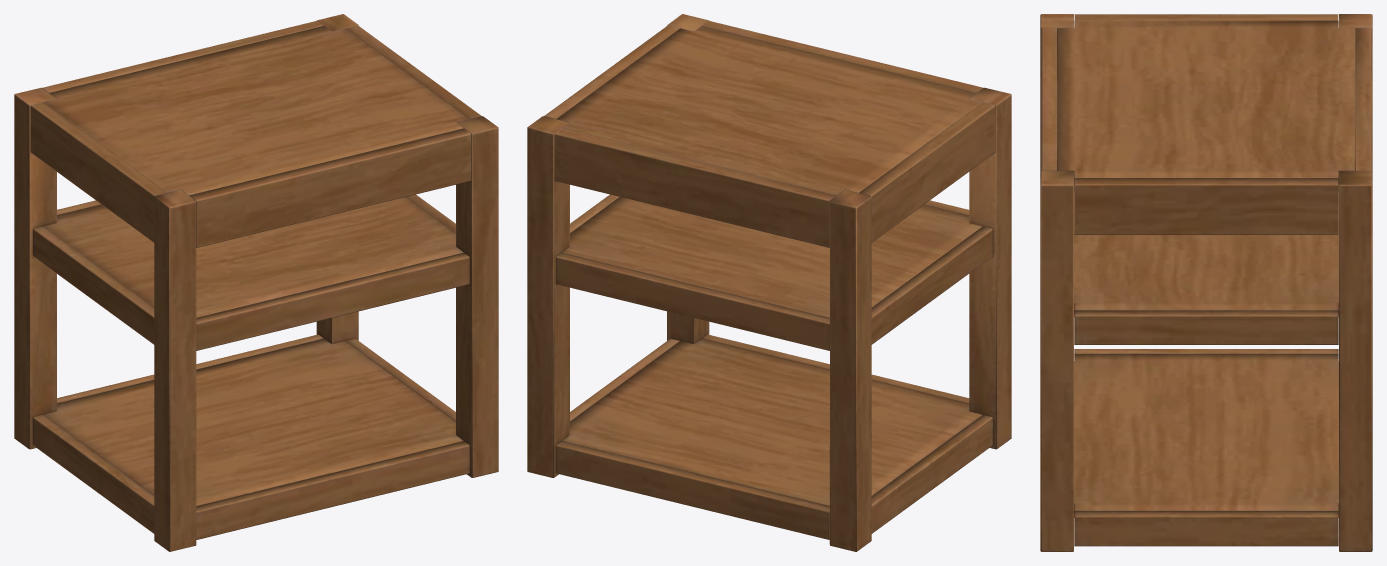
The model's file is side_table_01.glb.
3 renders of one model, left to right at view 1: azimuth 30°, elevation 25°; view 2: azimuth 150°, elevation 25°; view 3: azimuth 270°, elevation 25°, orthographic. The views are drawn at different scales.
Visible parts, largest first — view 1: side_table_01; view 2: side_table_01; view 3: side_table_01.
Part boxes in pixels (x1=…): side_table_01: x1=14, y1=14, x2=498, y2=551; side_table_01: x1=527, y1=14, x2=1011, y2=551; side_table_01: x1=1040, y1=14, x2=1372, y2=551.
Size of the model in its own units: 0.55 by 0.5507 by 0.45.
Materials: 1 (1 with a texture image).
